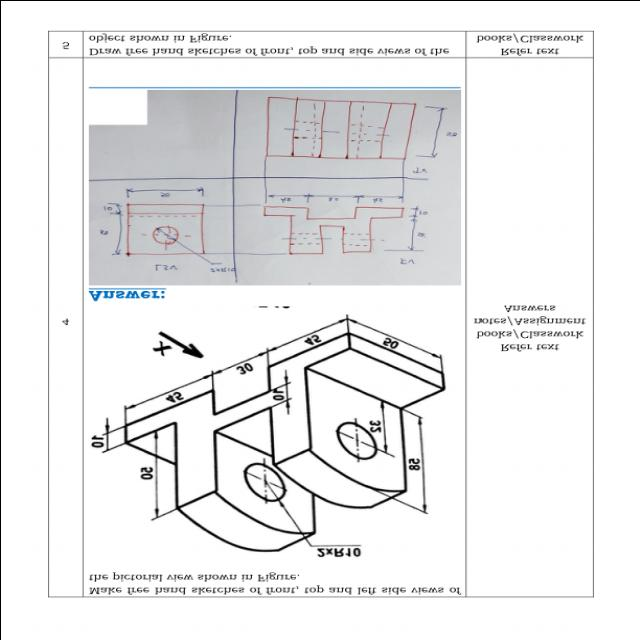Drawings: (88, 310, 450, 560), (256, 96, 458, 166), (252, 188, 432, 258), (97, 183, 217, 260)
